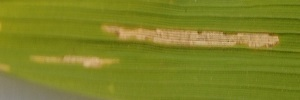RiceBacterialBlight: (96, 18, 285, 52), (24, 54, 122, 70)
